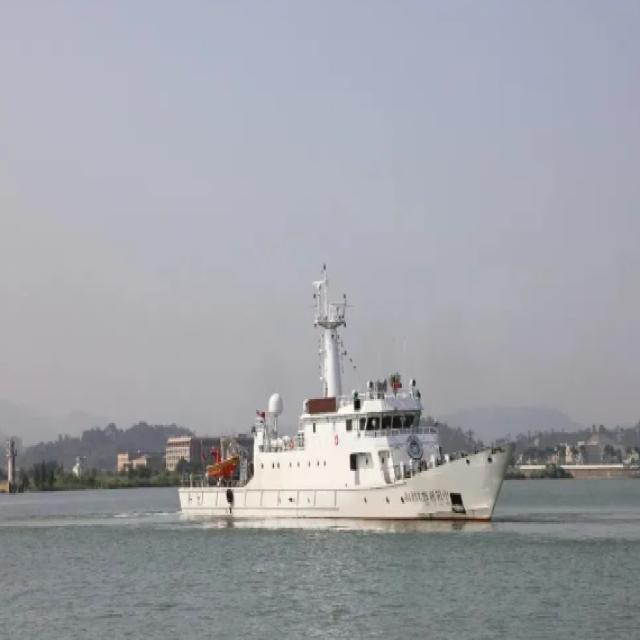houseboat: (172, 245, 509, 552)
